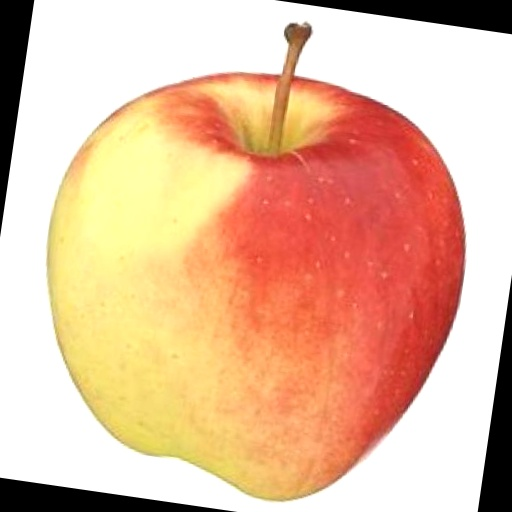fruit: (413, 154, 506, 453)
